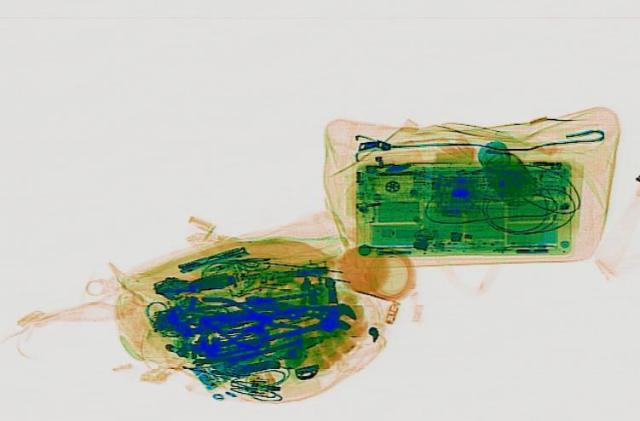Pliers: (198, 293, 308, 348)
Wrench: (235, 286, 362, 335)
